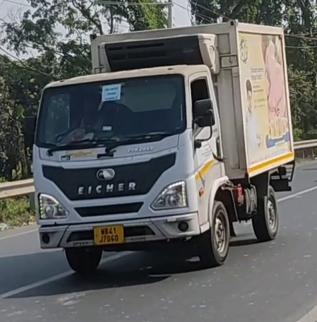Truck: (26, 19, 297, 278)
